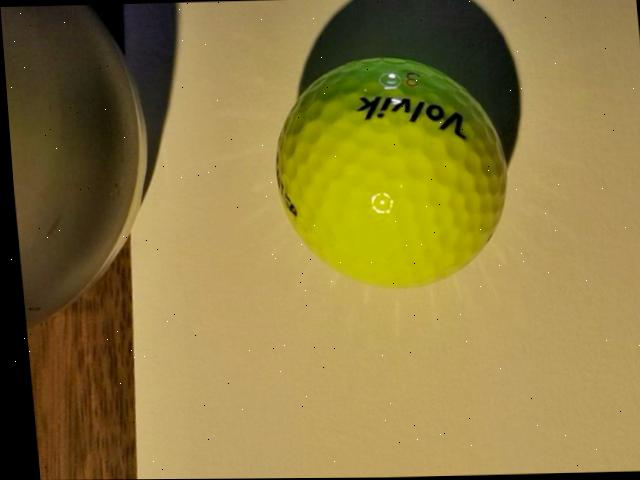Ball: (264, 54, 515, 293)
Volvik: (354, 95, 466, 143)
